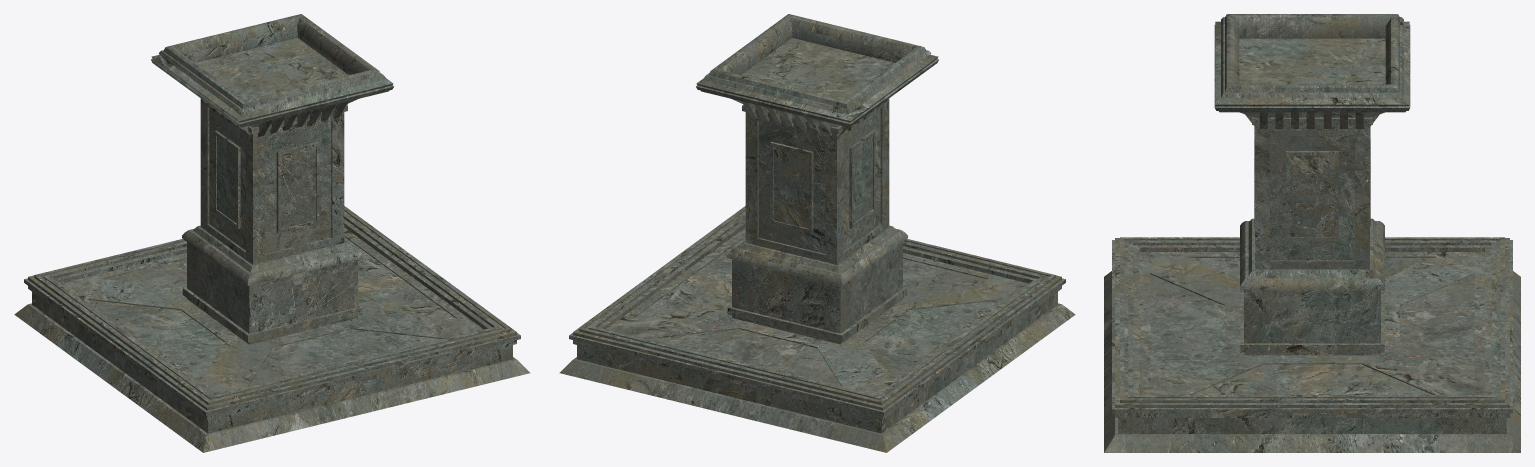
The model's file is fbxTorch.fbx.
The picture shows the model from 3 angles, left to right: view 1: azimuth 30°, elevation 25°; view 2: azimuth 150°, elevation 25°; view 3: azimuth 270°, elevation 25°; orthographic projection. The views are drawn at different scales.
Visible parts, largest first — view 1: Altar; view 2: Altar; view 3: Altar.
Part boxes in pixels (left/top/right/bottom): Altar: left=14, top=14, right=530, bottom=452; Altar: left=559, top=14, right=1075, bottom=452; Altar: left=1104, top=14, right=1520, bottom=452.
Size of the model in its own units: 6.52 by 5.44 by 6.52.
Materials: 1 (1 with a texture image).
